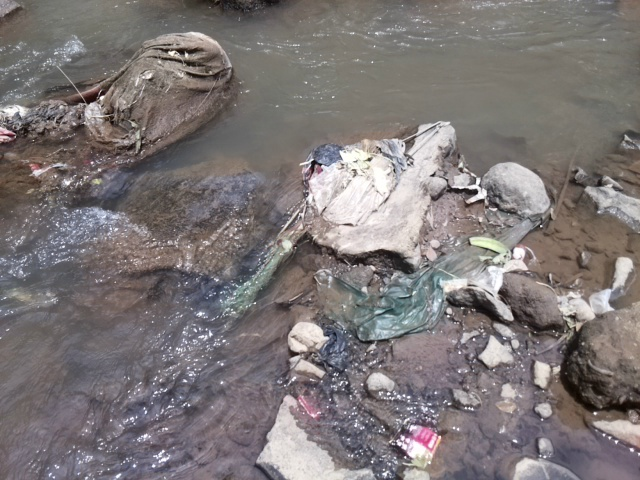Sampah_Plastik: (387, 417, 446, 464)
